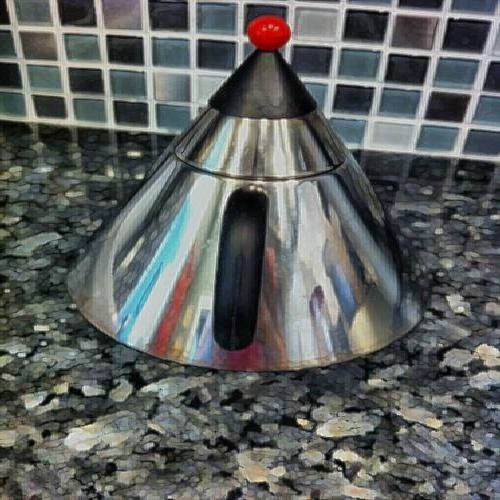kettle: (86, 44, 444, 365)
